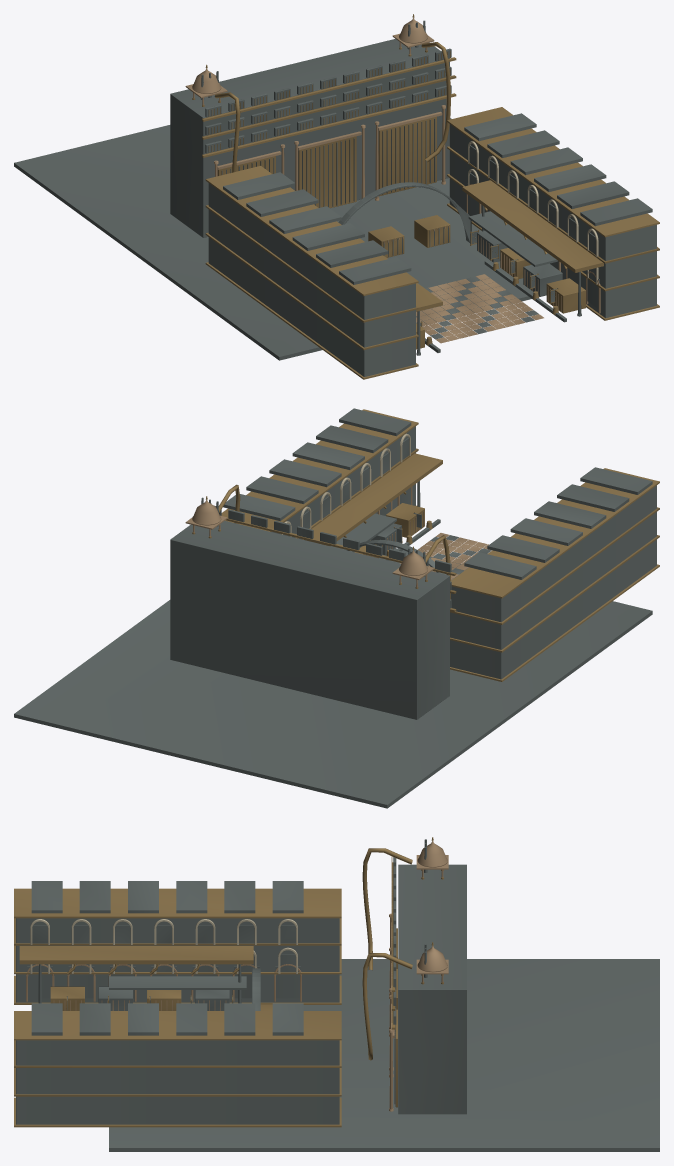
The model's file is arena-60.glb.
3 views of the same model, one above another, from view 1: azimuth 30°, elevation 25°; view 2: azimuth 150°, elevation 25°; view 3: azimuth 270°, elevation 25° (orthographic). The views are drawn at different scales.
Parts seen in each view (by area): view 1: correction-dark, correction-bronze, correction-sand, correction-plaster; view 2: correction-dark, correction-bronze, correction-sand, correction-plaster; view 3: correction-dark, correction-bronze, correction-sand, correction-plaster.
Part boxes in pixels (x1,y1,x2,y2): correction-dark: [14, 20, 656, 376]; correction-bronze: [192, 14, 659, 379]; correction-sand: [185, 17, 600, 343]; correction-plaster: [468, 141, 598, 284]; correction-dark: [14, 408, 656, 808]; correction-bronze: [192, 409, 659, 681]; correction-sand: [185, 486, 491, 587]; correction-plaster: [280, 433, 410, 539]; correction-dark: [16, 839, 659, 1151]; correction-bronze: [14, 837, 443, 1127]; correction-sand: [26, 840, 448, 1111]; correction-plaster: [30, 919, 297, 973].
Size of the model in its own units: 65 by 27.06 by 93.8.
